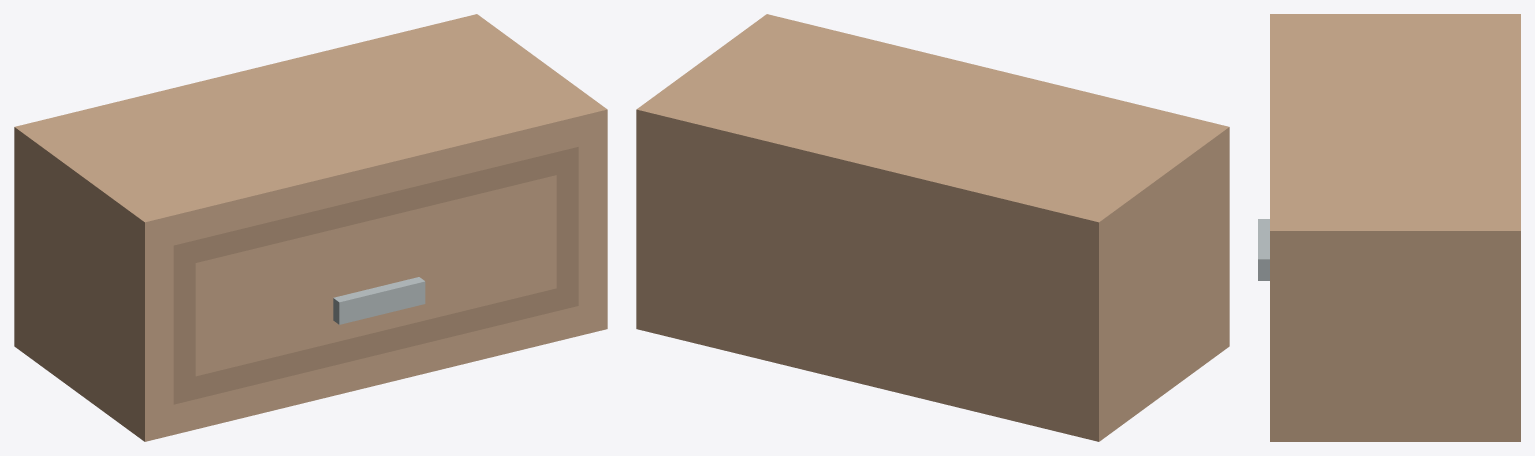
The model's file is kitchenCabinetUpperLow.glb.
The picture shows the model from 3 angles, left to right: view 1: azimuth 30°, elevation 25°; view 2: azimuth 150°, elevation 25°; view 3: azimuth 270°, elevation 25°; orthographic projection. The views are drawn at different scales.
Parts seen in each view (by area): view 1: kitchenCabinetUpperLow; view 2: kitchenCabinetUpperLow; view 3: kitchenCabinetUpperLow.
Boxes of the visible parts, left/top/right/bottom form: kitchenCabinetUpperLow: left=14, top=14, right=607, bottom=441; kitchenCabinetUpperLow: left=636, top=14, right=1229, bottom=441; kitchenCabinetUpperLow: left=1258, top=14, right=1520, bottom=441.
Bounding box in the file's own units: 0.43 × 0.195 × 0.22.
